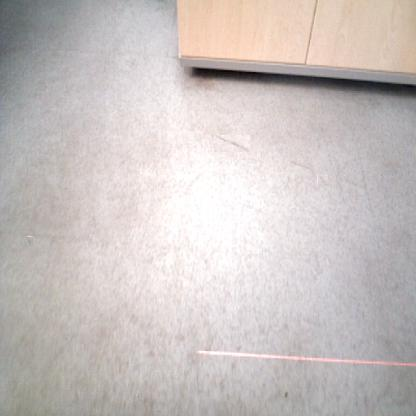mark: (214, 136, 250, 154), (188, 172, 204, 189), (290, 159, 310, 171), (317, 175, 329, 186), (284, 389, 290, 401), (27, 236, 33, 245)
